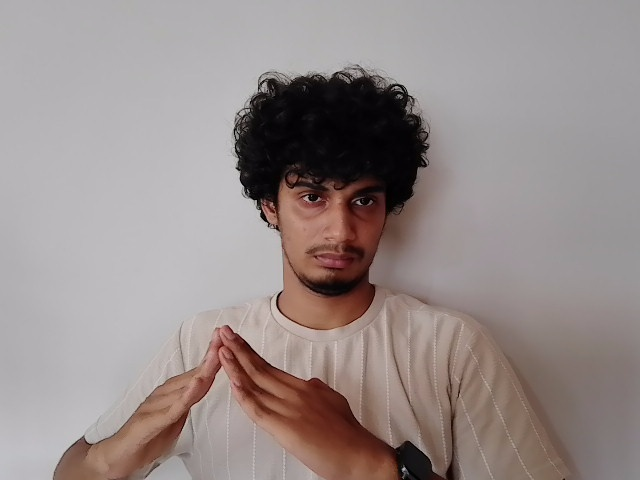home: (112, 321, 374, 476)
